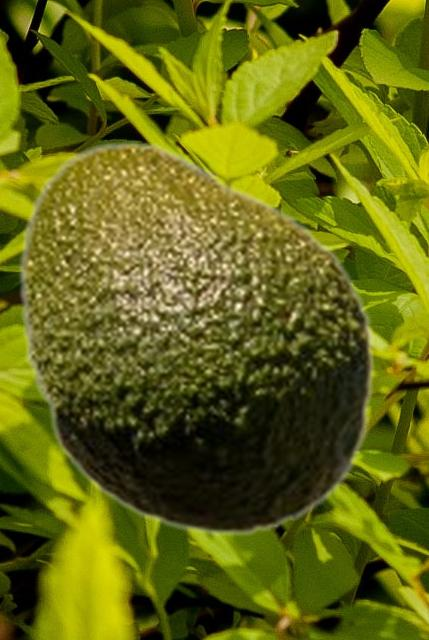avocado: (17, 140, 375, 537)
